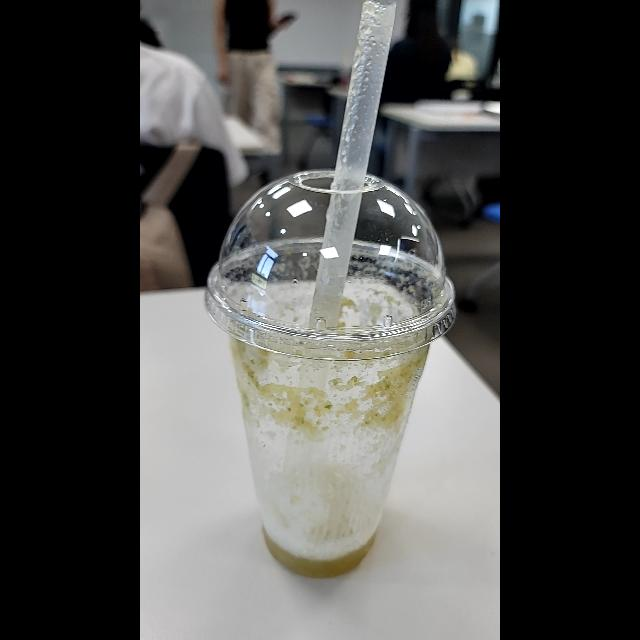plastic_cup: (201, 158, 449, 592), (310, 5, 402, 312)
plastic_cup_lid: (204, 170, 462, 364)
